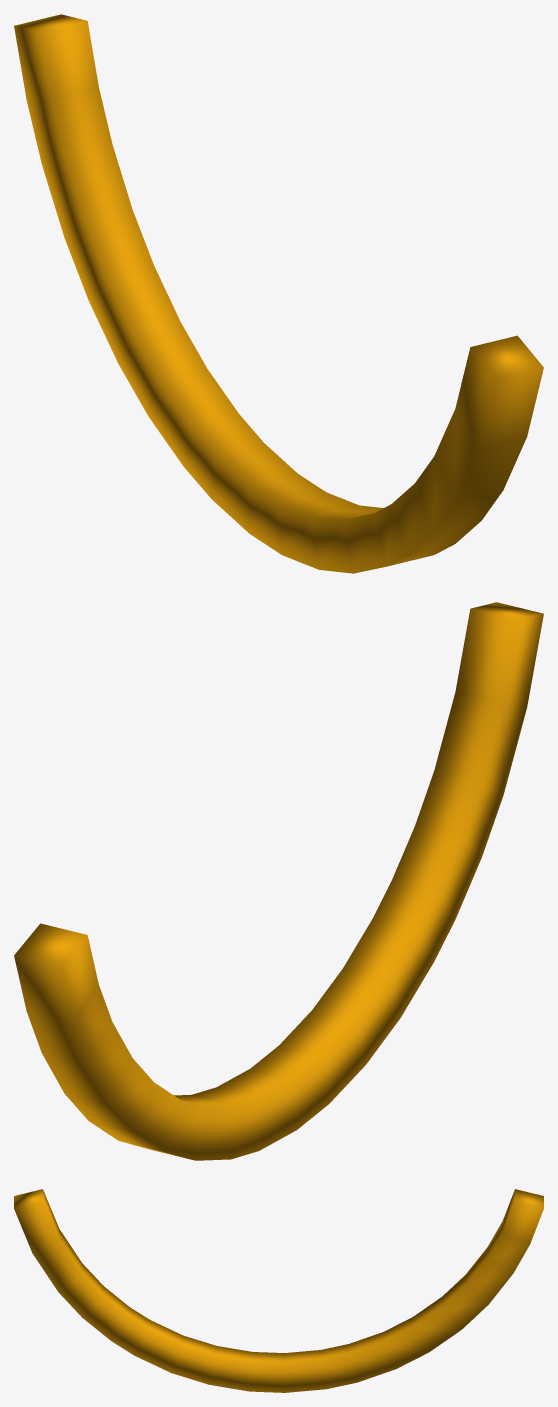
File: Beam_01_Bend_07.fbx
3 views of the same model, one above another, from view 1: azimuth 30°, elevation 25°; view 2: azimuth 150°, elevation 25°; view 3: azimuth 270°, elevation 25° (orthographic). The views are drawn at different scales.
Parts seen in each view (by area): view 1: Beam_01_Bend_07; view 2: Beam_01_Bend_07; view 3: Beam_01_Bend_07.
Part boxes in pixels (bbox=[...]): Beam_01_Bend_07: bbox=[14, 14, 543, 573]; Beam_01_Bend_07: bbox=[14, 602, 543, 1160]; Beam_01_Bend_07: bbox=[14, 1189, 543, 1392].
Size of the model in its own units: 32.52 by 229 by 575.
